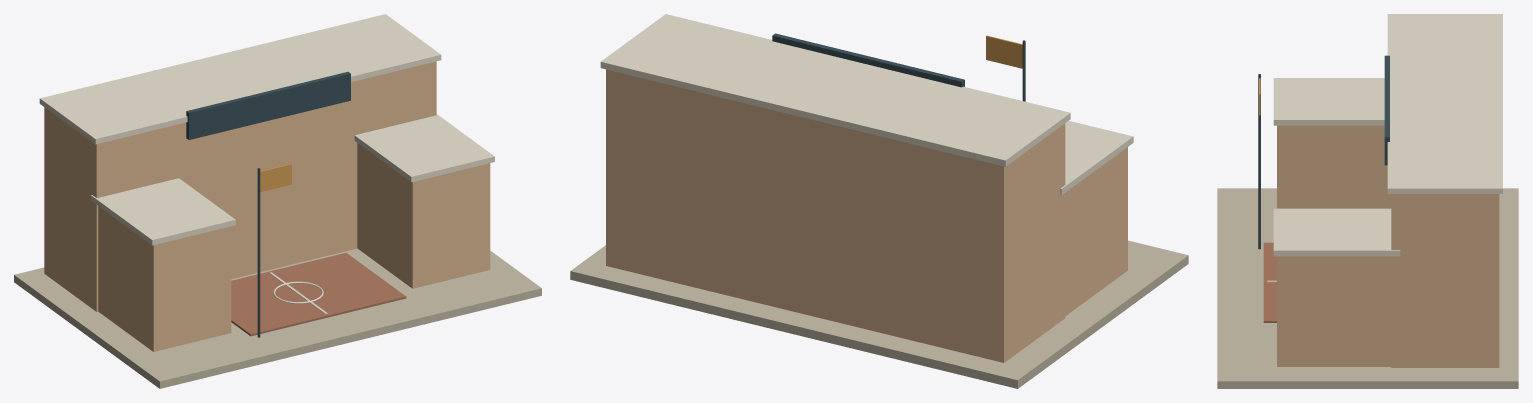
The model's file is school_lod.glb.
3 renders of one model, left to right at view 1: azimuth 30°, elevation 25°; view 2: azimuth 150°, elevation 25°; view 3: azimuth 270°, elevation 25°, orthographic. The views are drawn at different scales.
Visible parts, largest first — view 1: school_Building_Volume, school_Roof_Coping, school_Site_Paving, school_Building_Volume.002, school_Building_Volume.001, school_School_Play_Court, school_Roof_Coping.001, school_Roof_Coping.002, school_Sign_Backplate, school_School_Flag, school_Flagpole; view 2: school_Building_Volume, school_Roof_Coping, school_Site_Paving, school_Building_Volume.001, school_Roof_Coping.001, school_Sign_Backplate, school_School_Flag; view 3: school_Roof_Coping, school_Site_Paving, school_Building_Volume, school_Building_Volume.002, school_Building_Volume.001, school_Roof_Coping.002, school_Roof_Coping.001, school_School_Play_Court, school_Sign_Backplate, school_Flagpole.
Part boxes in pixels (x1,y1,x2,y2): school_Building_Volume: (44,61,436,311); school_Roof_Coping: (39,14,441,144); school_Site_Paving: (14,248,541,388); school_Building_Volume.002: (357,143,490,288); school_Building_Volume.001: (98,206,231,351); school_School_Play_Court: (231,252,406,336); school_Roof_Coping.001: (91,178,235,245); school_Roof_Coping.002: (354,114,494,182); school_Sign_Backplate: (186,71,350,139); school_School_Flag: (260,164,291,191); school_Flagpole: (257,168,260,337); school_Building_Volume: (606,69,1065,362); school_Roof_Coping: (600,14,1070,166); school_Site_Paving: (570,240,1188,388); school_Building_Volume.001: (1065,147,1127,315); school_Roof_Coping.001: (1060,121,1133,195); school_Sign_Backplate: (772,33,964,87); school_School_Flag: (986,35,1022,68); school_Roof_Coping: (1387,14,1502,193); school_Site_Paving: (1217,188,1518,388); school_Building_Volume: (1391,194,1499,367); school_Building_Volume.002: (1277,256,1391,366); school_Building_Volume.001: (1277,125,1391,208); school_Roof_Coping.002: (1273,208,1400,256); school_Roof_Coping.001: (1273,78,1384,125); school_School_Play_Court: (1263,242,1276,322); school_Sign_Backplate: (1384,55,1389,165); school_Flagpole: (1258,74,1260,249).
Size of the model in its own units: 11.8 by 5.6 by 7.8.
